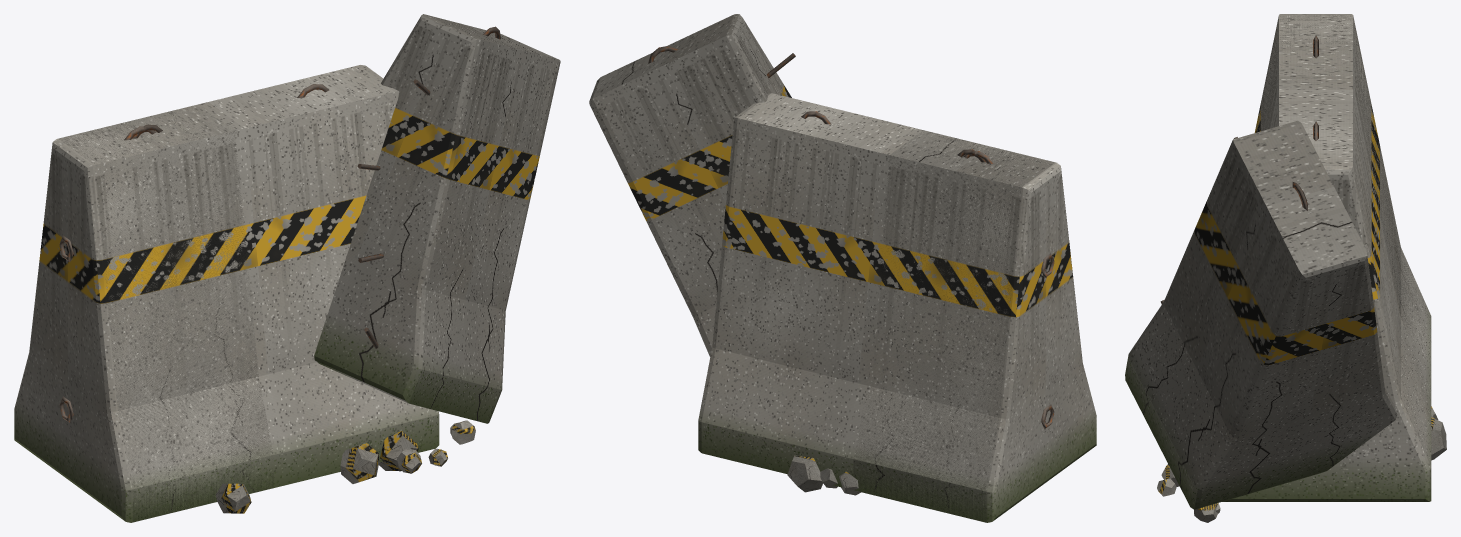
The model's file is ConcreteBarrier.glb.
The picture shows the model from 3 angles, left to right: view 1: azimuth 30°, elevation 25°; view 2: azimuth 150°, elevation 25°; view 3: azimuth 270°, elevation 25°; orthographic projection. The views are drawn at different scales.
Parts seen in each view (by area): view 1: Concrete-intact, Concrete-broken_broken, Concrete-damaged_damaged, Rust, Rust_broken; view 2: Concrete-intact, Concrete-broken_broken, Rust; view 3: Concrete-broken_broken, Concrete-intact, Concrete-damaged_damaged.
Part boxes in pixels (x1,y1,x2,y2): Concrete-intact: (14, 65, 439, 522); Concrete-broken_broken: (59, 14, 560, 522); Concrete-damaged_damaged: (397, 420, 475, 473); Rust: (59, 84, 329, 422); Rust_broken: (132, 26, 500, 348); Concrete-intact: (698, 93, 1096, 522); Concrete-broken_broken: (589, 14, 1054, 521); Rust: (801, 111, 1054, 429); Concrete-broken_broken: (1125, 15, 1446, 509); Concrete-intact: (1222, 14, 1431, 501); Concrete-damaged_damaged: (1157, 464, 1220, 522).
Bounding box in the file's own units: 1.21 × 0.9499 × 0.674.
Materials: 12 (8 with a texture image).
